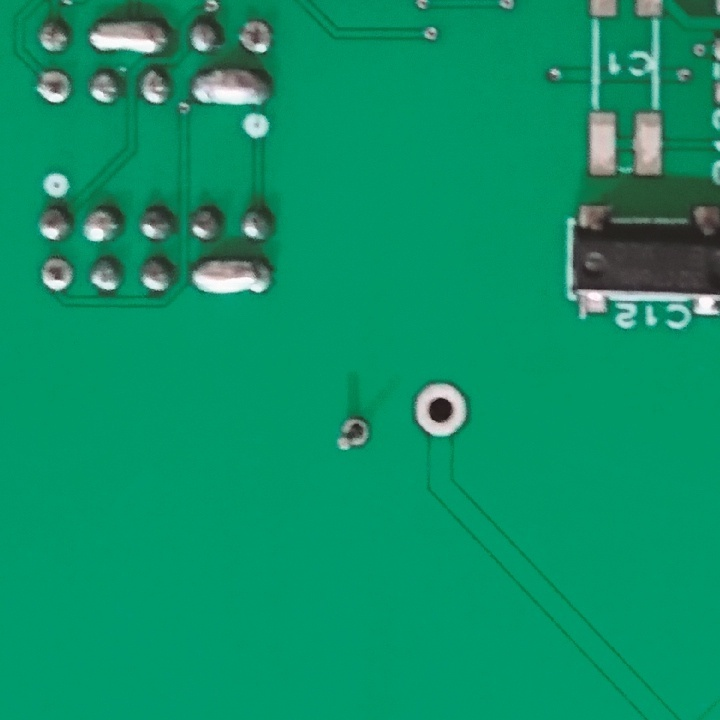F: (410, 378, 471, 439), (33, 66, 76, 110), (333, 414, 375, 456), (235, 18, 274, 57), (37, 256, 74, 293)
P: (186, 255, 274, 299), (190, 67, 273, 109), (84, 17, 168, 55)
